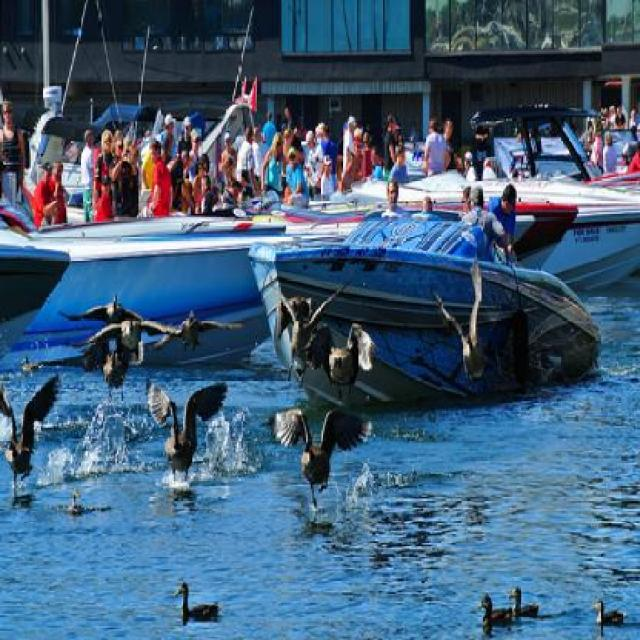ship: (252, 198, 596, 384), (6, 185, 286, 357), (354, 168, 638, 294), (0, 232, 71, 382)
